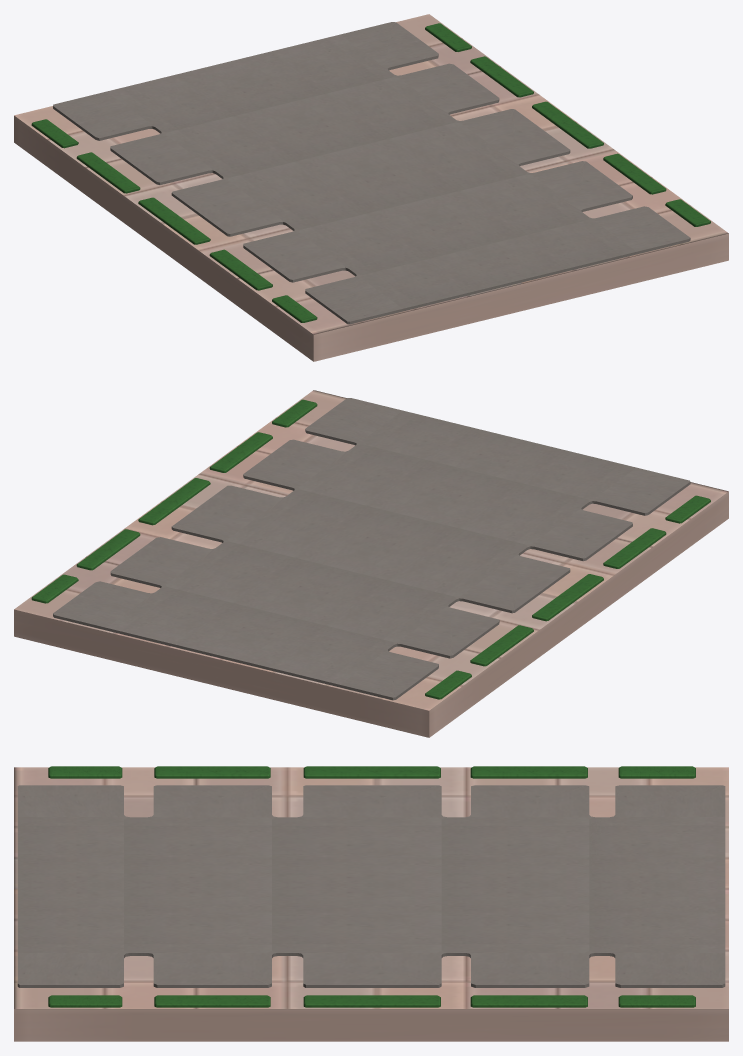
Rendered from residential.fbx.
3 views of the same model, one above another, from view 1: azimuth 30°, elevation 25°; view 2: azimuth 150°, elevation 25°; view 3: azimuth 270°, elevation 25° (orthographic). The views are drawn at different scales.
Parts seen in each view (by area): view 1: polySurface8; view 2: polySurface8; view 3: polySurface8.
Boxes of the visible parts, left/top/right/bottom form: polySurface8: left=14, top=14, right=728, bottom=361; polySurface8: left=14, top=390, right=728, bottom=737; polySurface8: left=14, top=766, right=728, bottom=1041.
Size of the model in its own units: 16 by 1.1 by 20.
1 material, 1 textured.
